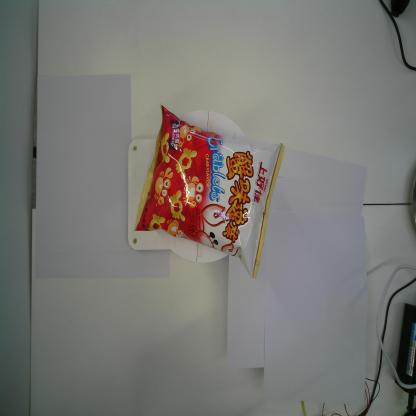Puffed Food: (132, 102, 286, 280)
